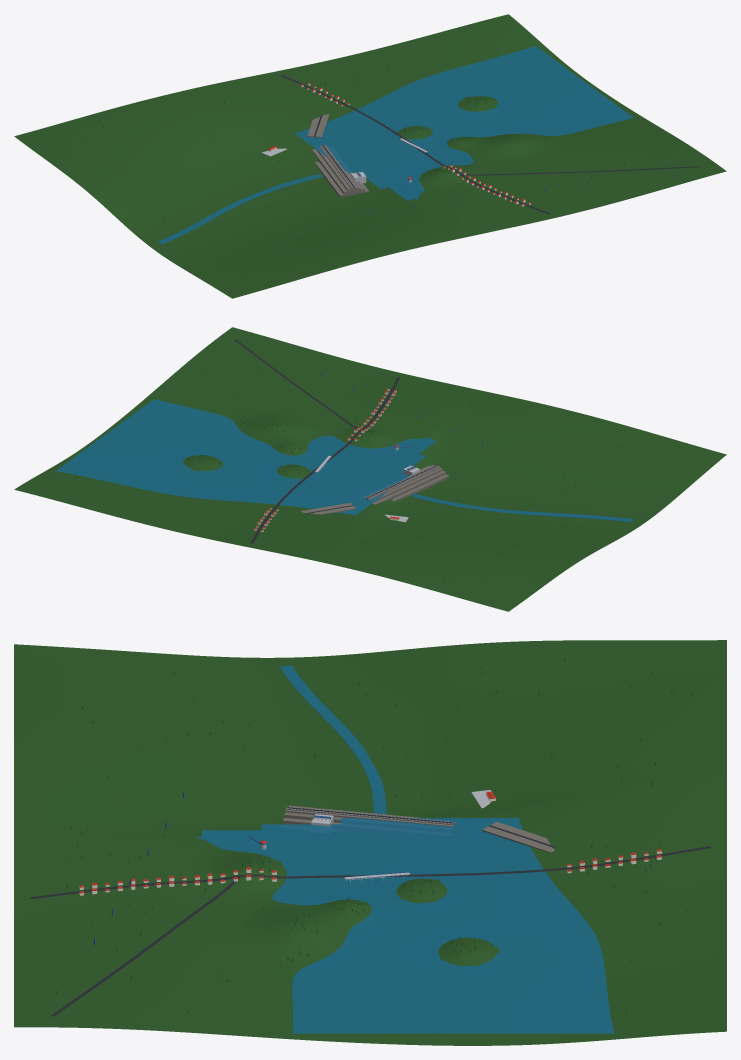
File: ring3_auto_b02_duc_trong_dai_ninh_hydro_reservoir_dam_and_bridge.glb
3 renders of one model, top to bottom at view 1: azimuth 30°, elevation 25°; view 2: azimuth 150°, elevation 25°; view 3: azimuth 270°, elevation 25°, orthographic. The views are drawn at different scales.
Visible parts, largest first — view 1: DaiNinh_Reservoir_Basin_And_Islands_Terrain, DaiNinh_319M_m3_Reservoir_And_Tailrace, DaiNinh_Main_626m_Dam_And_Auxiliary_Dam, QL20_QL28B_Interchange_And_Dam_Crest_Road; view 2: DaiNinh_Reservoir_Basin_And_Islands_Terrain, DaiNinh_319M_m3_Reservoir_And_Tailrace, DaiNinh_Main_626m_Dam_And_Auxiliary_Dam, QL20_QL28B_Interchange_And_Dam_Crest_Road; view 3: DaiNinh_Reservoir_Basin_And_Islands_Terrain, DaiNinh_319M_m3_Reservoir_And_Tailrace, QL20_QL28B_Interchange_And_Dam_Crest_Road, DaiNinh_Main_626m_Dam_And_Auxiliary_Dam, Spillway_IntakeTower_And_CauDaiNinh_Bridge, DaiNinh_Pine_And_Forest_Canopies, DaiNinh_Hydro_Company_HQ_And_NinhGia_Walls, DaiNinh_HQ_And_NinhGia_Roofs.
Boxes of the visible parts, left/top/right/bottom form: DaiNinh_Reservoir_Basin_And_Islands_Terrain: left=14, top=14, right=726, bottom=298; DaiNinh_319M_m3_Reservoir_And_Tailrace: left=158, top=46, right=633, bottom=243; DaiNinh_Main_626m_Dam_And_Auxiliary_Dam: left=307, top=114, right=369, bottom=196; QL20_QL28B_Interchange_And_Dam_Crest_Road: left=280, top=75, right=700, bottom=214; DaiNinh_Reservoir_Basin_And_Islands_Terrain: left=14, top=327, right=726, bottom=611; DaiNinh_319M_m3_Reservoir_And_Tailrace: left=56, top=399, right=633, bottom=522; DaiNinh_Main_626m_Dam_And_Auxiliary_Dam: left=301, top=465, right=449, bottom=514; QL20_QL28B_Interchange_And_Dam_Crest_Road: left=234, top=339, right=438, bottom=543; DaiNinh_Reservoir_Basin_And_Islands_Terrain: left=14, top=640, right=726, bottom=1045; DaiNinh_319M_m3_Reservoir_And_Tailrace: left=195, top=665, right=614, bottom=1033; QL20_QL28B_Interchange_And_Dam_Crest_Road: left=30, top=807, right=710, bottom=1016; DaiNinh_Main_626m_Dam_And_Auxiliary_Dam: left=282, top=805, right=554, bottom=852; Spillway_IntakeTower_And_CauDaiNinh_Bridge: left=260, top=790, right=491, bottom=881; DaiNinh_Pine_And_Forest_Canopies: left=55, top=659, right=693, bottom=1012; DaiNinh_Hydro_Company_HQ_And_NinhGia_Walls: left=79, top=794, right=661, bottom=895; DaiNinh_HQ_And_NinhGia_Roofs: left=79, top=791, right=661, bottom=893.
Size of the model in its own units: 3400 by 109 by 2600.
